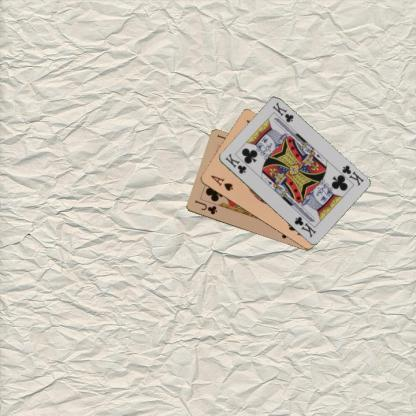As: (208, 173, 234, 192)
Jc: (192, 198, 218, 216)
Kc: (339, 162, 365, 188), (223, 151, 247, 175)
